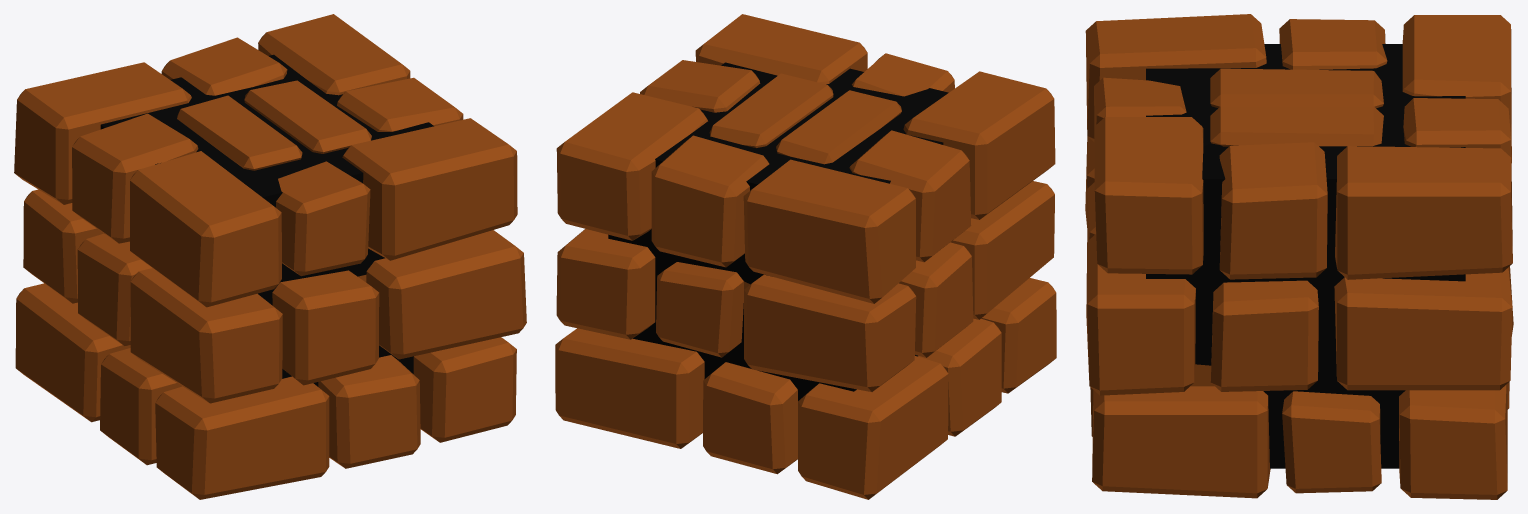
The model's file is brick.fbx.
The picture shows the model from 3 angles, left to right: view 1: azimuth 30°, elevation 25°; view 2: azimuth 150°, elevation 25°; view 3: azimuth 270°, elevation 25°; orthographic projection. The views are drawn at different scales.
Visible parts, largest first — view 1: brick_final; view 2: brick_final; view 3: brick_final.
Part boxes in pixels (x1,y1,x2,y2): brick_final: [14, 14, 526, 499]; brick_final: [555, 14, 1056, 499]; brick_final: [1085, 14, 1513, 499].
Bounding box in the file's own units: 800 × 662 × 798.
